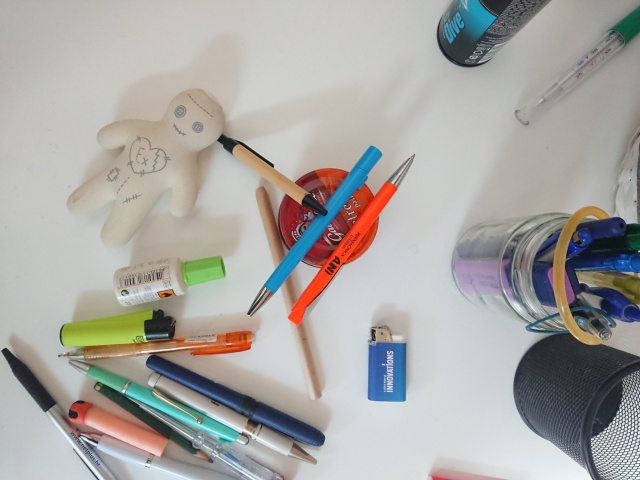Gavrilovic Pork Liver Pate 100g: (276, 166, 381, 270)
